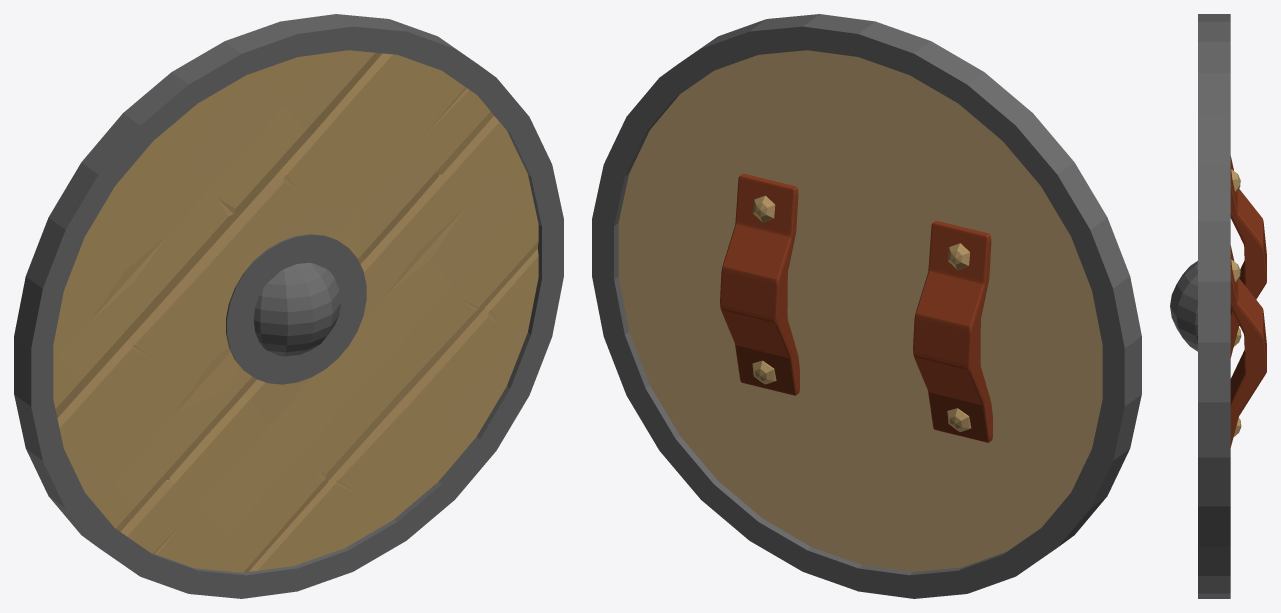
File: Shield_1.fbx
3 renders of one model, left to right at view 1: azimuth 30°, elevation 25°; view 2: azimuth 150°, elevation 25°; view 3: azimuth 270°, elevation 25°, orthographic. The views are drawn at different scales.
Parts seen in each view (by area): view 1: Cube.008; view 2: Cube.008; view 3: Cube.008.
Boxes of the visible parts, x1,y1,x2,y2 form: Cube.008: (14,14,563,598); Cube.008: (592,14,1141,598); Cube.008: (1170,14,1266,598).
Bounding box in the file's own units: 75 × 75 × 12.44.
